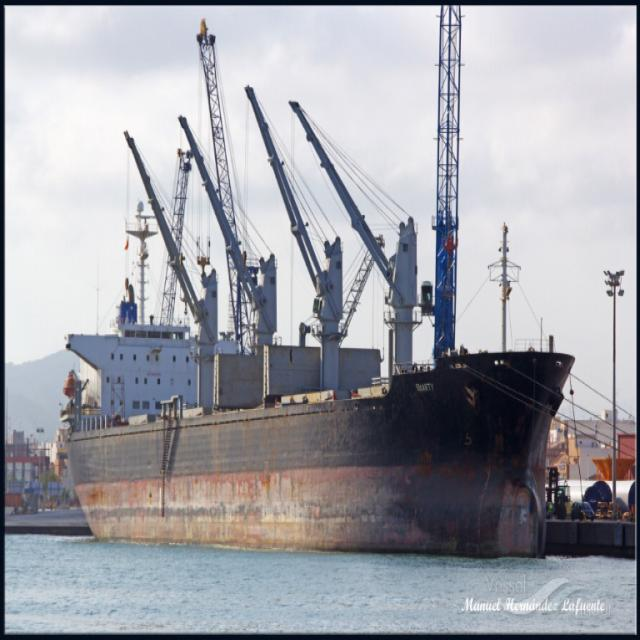OCR: (411, 377, 436, 396)
